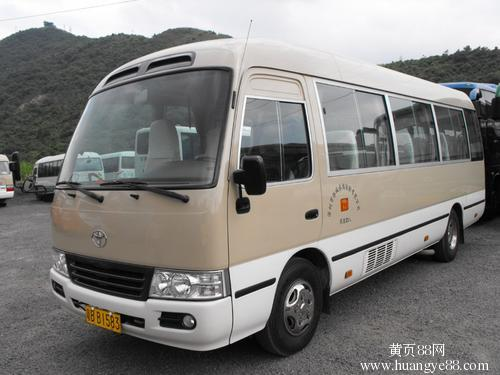bus: (46, 32, 495, 363)
